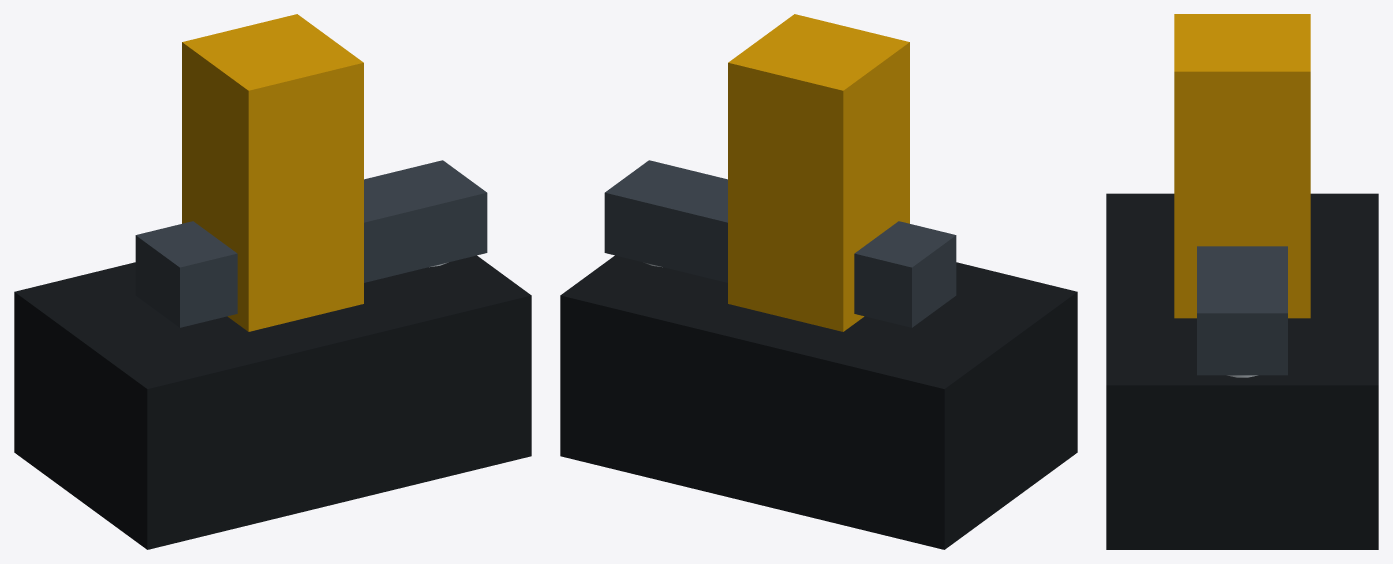
3 renders of one model, left to right at view 1: azimuth 30°, elevation 25°; view 2: azimuth 150°, elevation 25°; view 3: azimuth 270°, elevation 25°, orthographic. The views are drawn at different scales.
Parts seen in each view (by area): view 1: base, handle, arm; view 2: base, handle, arm; view 3: base, handle, arm.
Boxes of the visible parts, x1=… form: base: x1=14, y1=255, x2=531, y2=549; handle: x1=182, y1=14, x2=363, y2=331; arm: x1=135, y1=160, x2=487, y2=327; base: x1=560, y1=255, x2=1077, y2=549; handle: x1=728, y1=14, x2=909, y2=331; arm: x1=604, y1=160, x2=956, y2=327; base: x1=1106, y1=193, x2=1378, y2=549; handle: x1=1174, y1=14, x2=1310, y2=318; arm: x1=1197, y1=246, x2=1287, y2=375.
Bounding box in the file's own units: 0.2 × 0.2 × 0.12.
